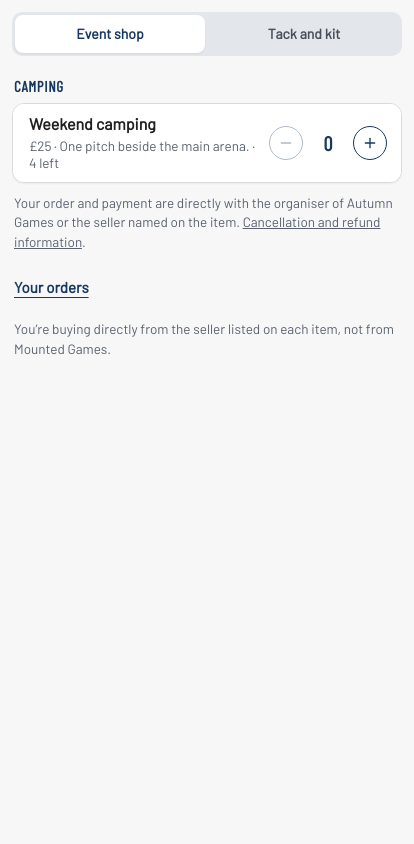
Scenario: EventShopPage › reuses the order key when a lost response is retried with the same basket
This screenshot has width=414, height=844.
Click the button named "Add one Weekend camping": [370, 142] box [353, 126, 387, 160]
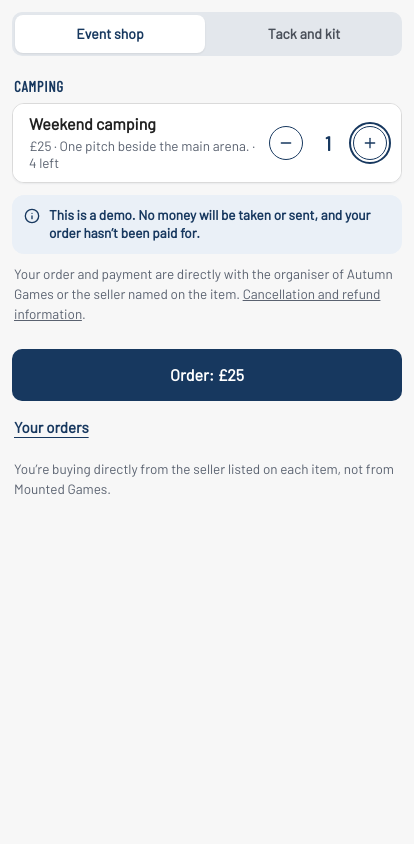
Click the button "Order: £25": [207, 375] box [12, 349, 402, 401]
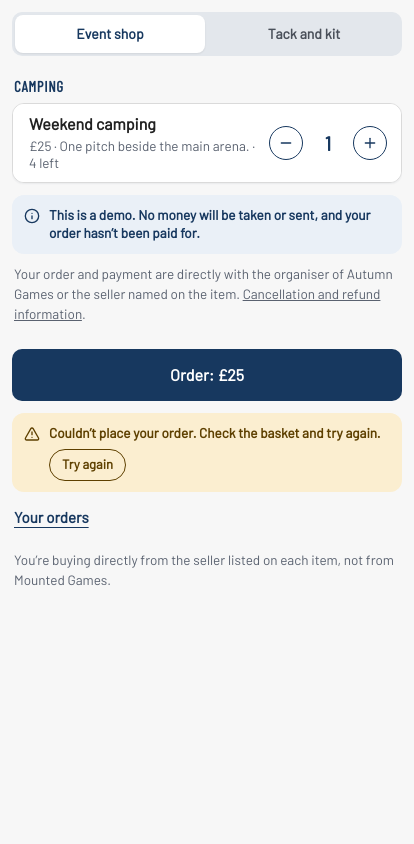
Result: the text "Couldn’t place your order. Check the basket and try again." is shown at [49, 424, 381, 443]
Click the button "Order: £25": [207, 375] box [12, 349, 402, 401]
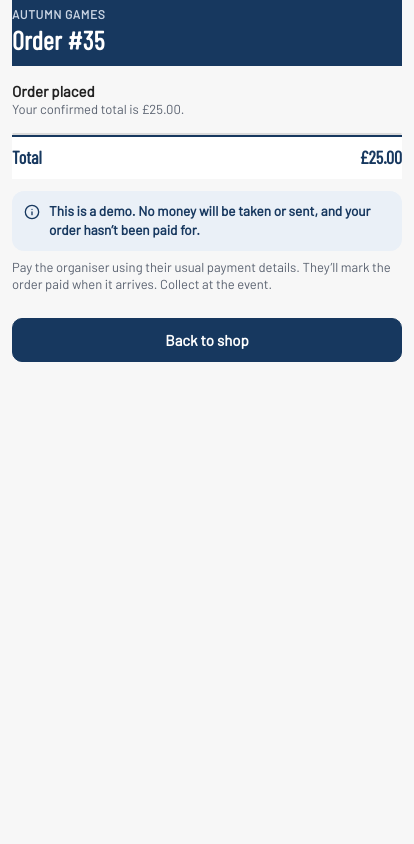
Result: the heading "Order #35" is shown at [12, 24, 105, 55]
